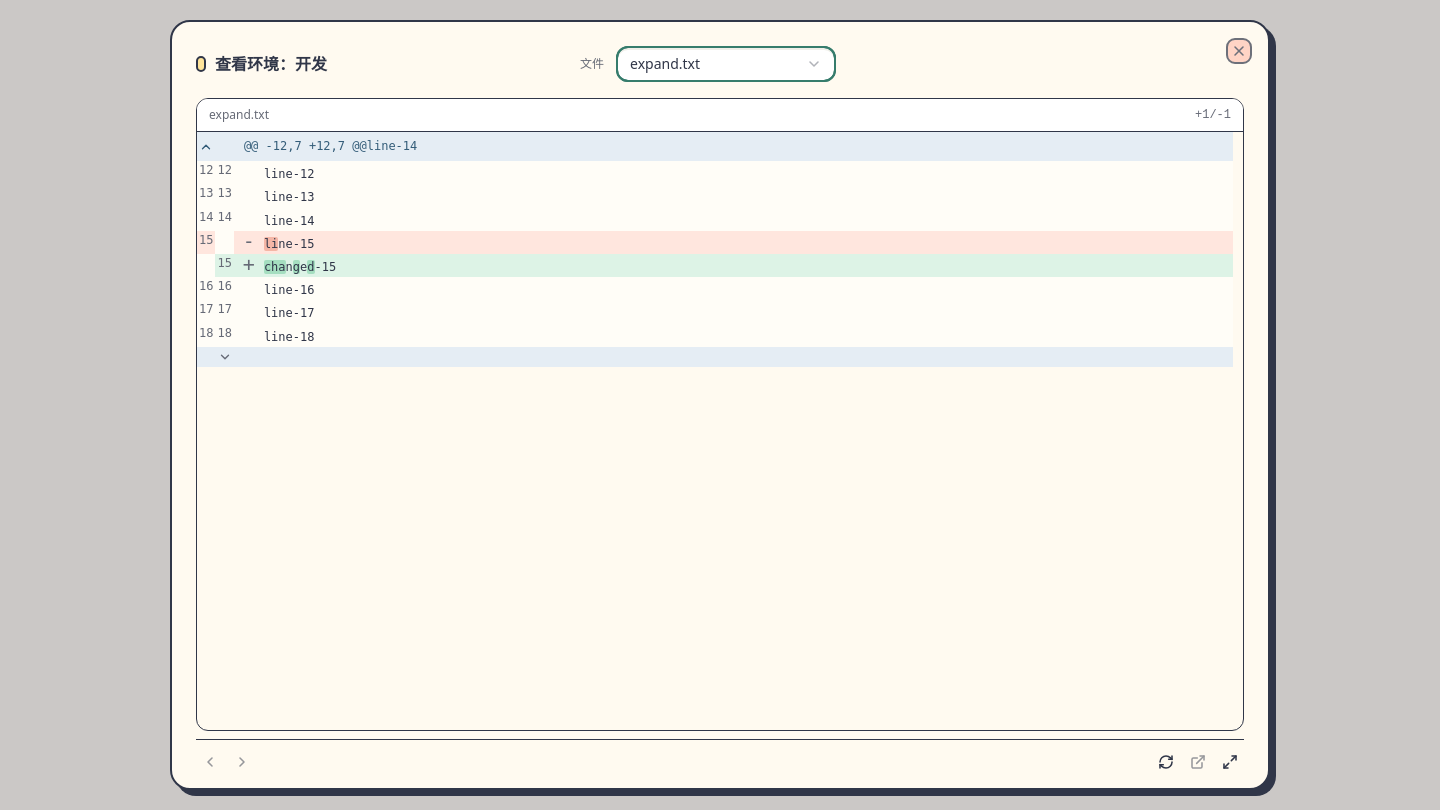
Test case: EnvironmentDiffDialog › expands head and tail gaps by ten lines without moving or duplicating hunk headers
Click the button named "向上展开10行".
click(206, 147)  # box [197,137,215,157]
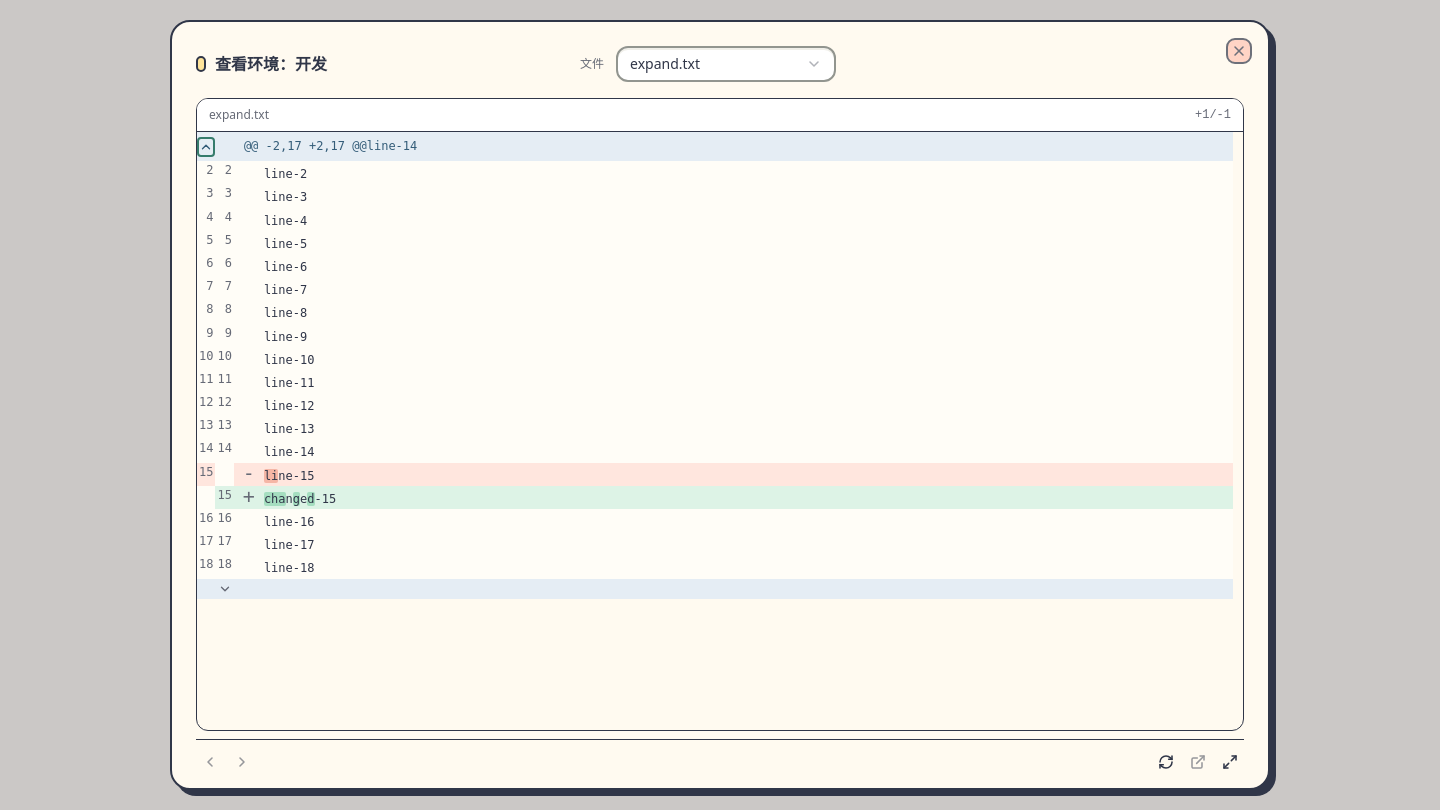
Click the button named "向下展开10行".
click(225, 589)  # box [215,579,234,599]
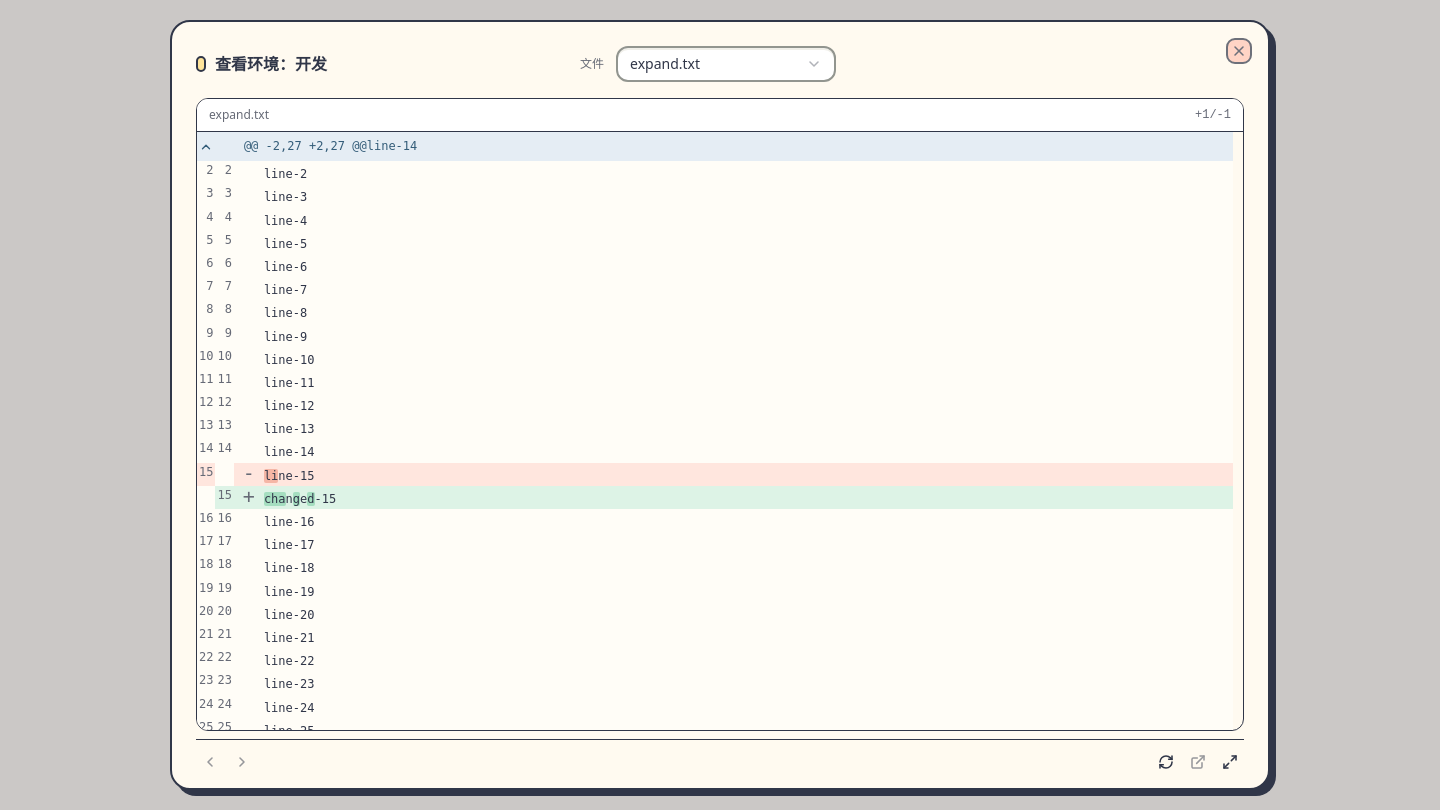
Click the button named "向上展开10行".
click(206, 147)  # box [197,137,215,157]
(page scrolled)
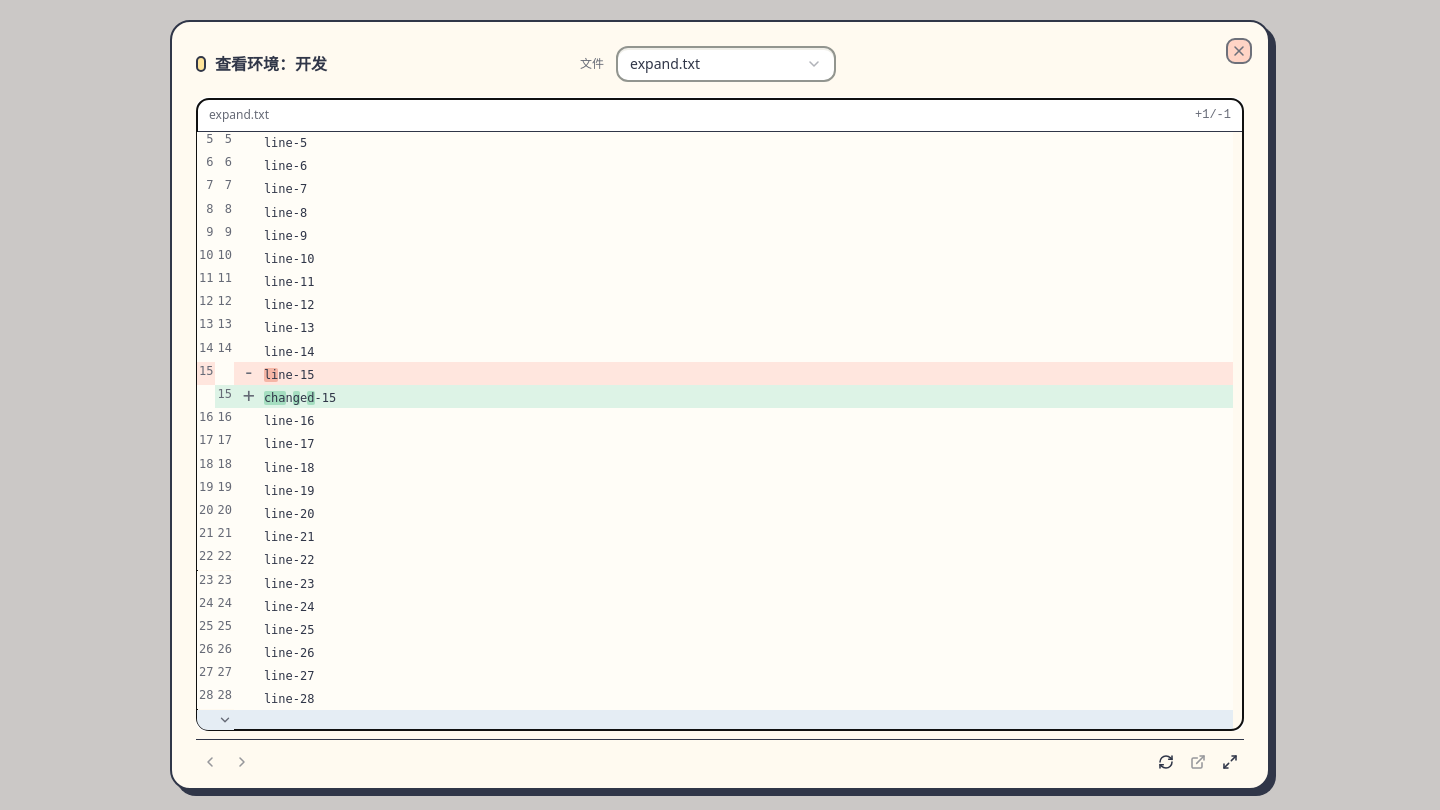
Click the button named "向下展开10行".
click(225, 720)  # box [215,710,234,730]
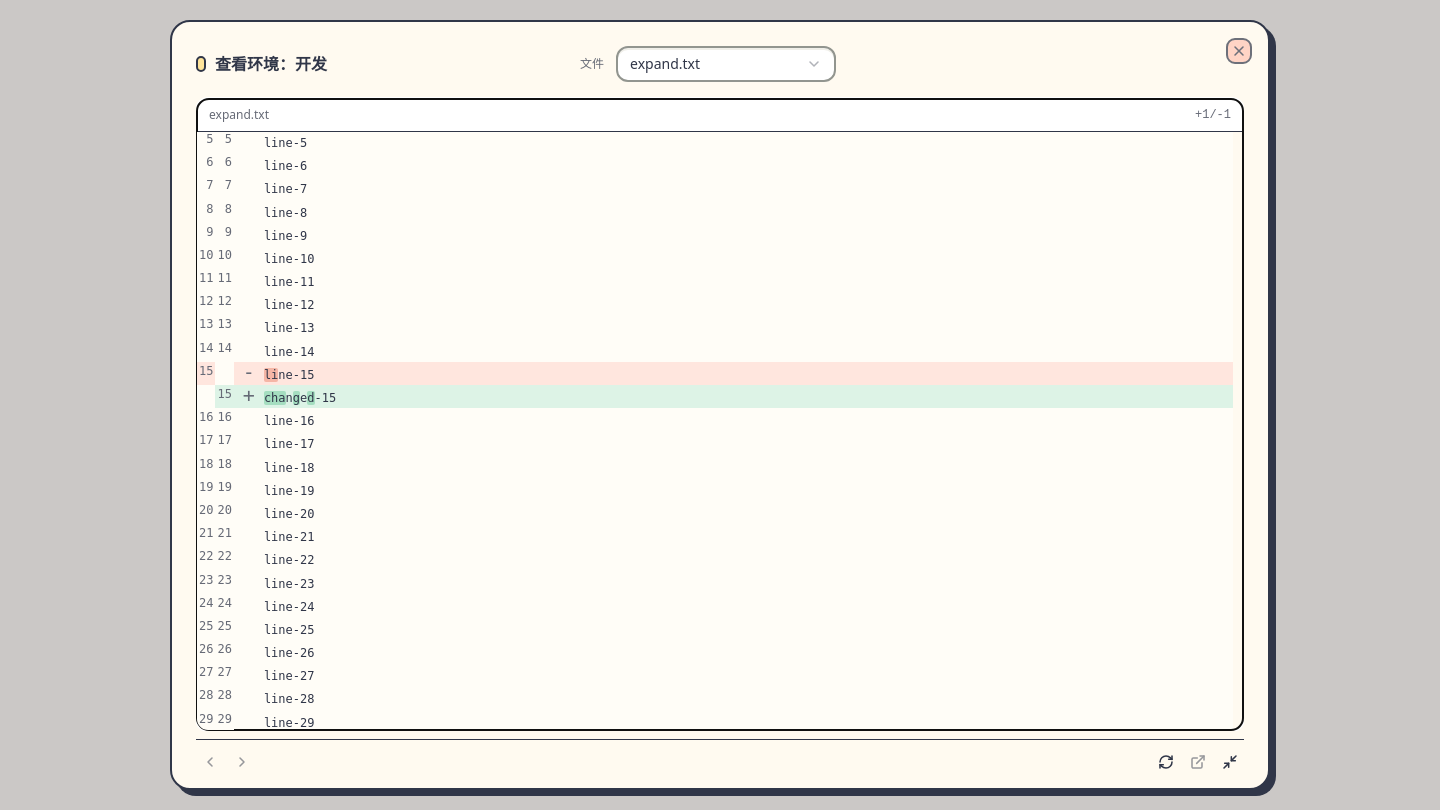
Click the button named "折叠当前文件全部内容".
click(1230, 762)  # box [1216,748,1244,776]
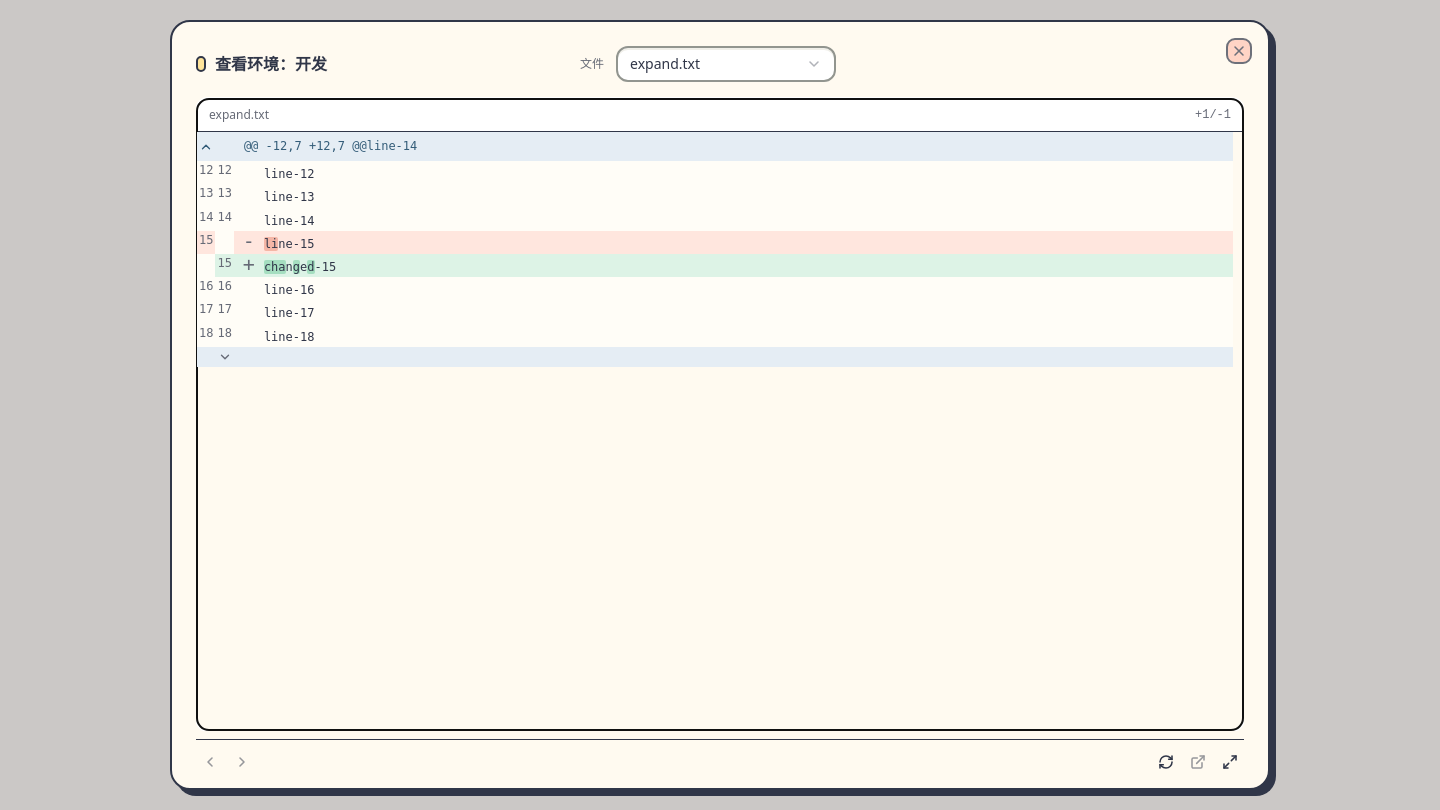
Expected: the button named "展开当前文件全部内容" is shown, [1216,748,1244,776]
